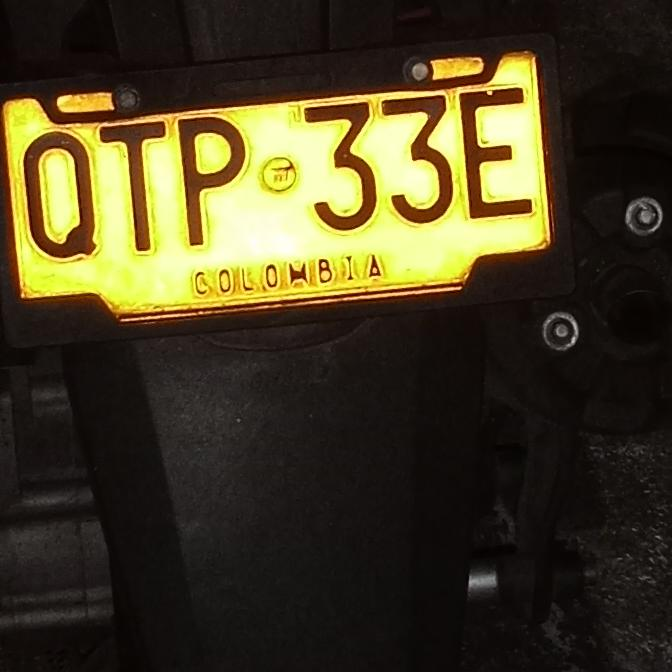plates: (0, 32, 574, 344)
